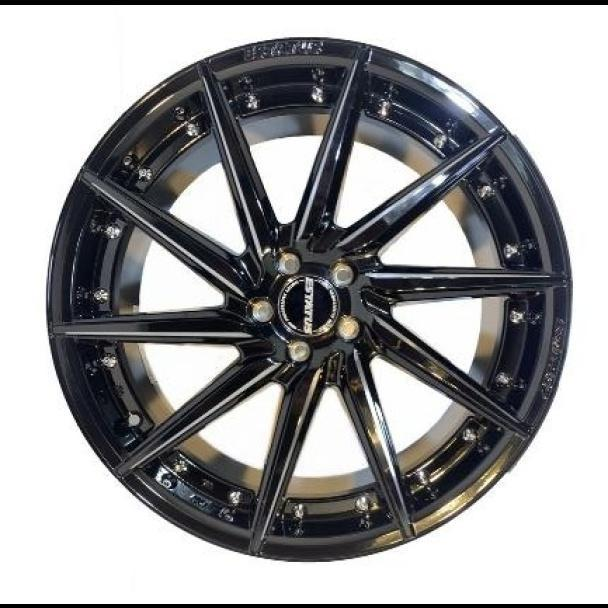hole: (245, 295, 275, 325), (334, 313, 363, 344), (272, 247, 301, 278), (328, 259, 358, 288), (285, 337, 313, 365)
